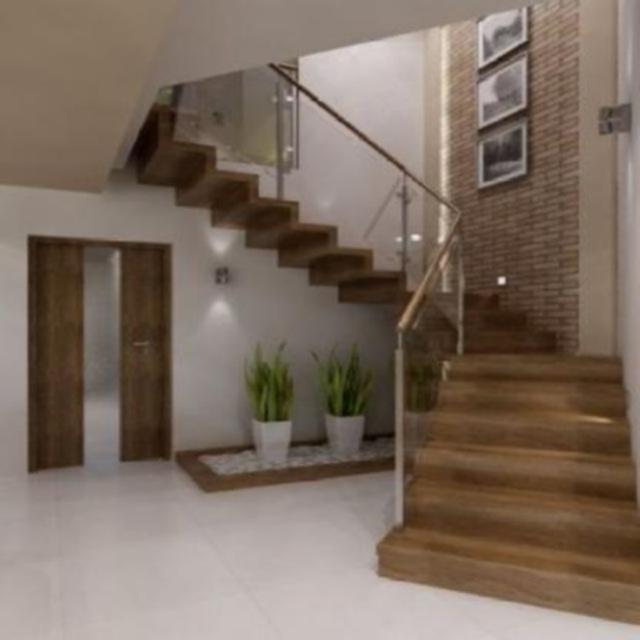stair: (88, 71, 620, 311), (326, 318, 628, 578)
